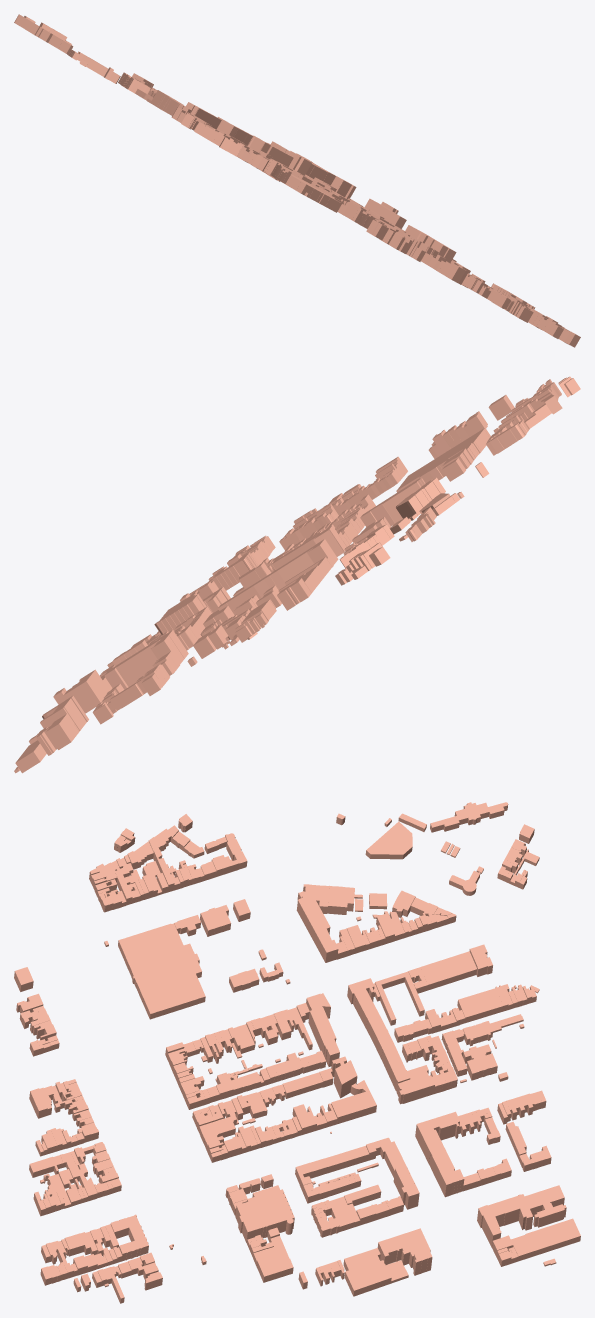
3 renders of one model, top to bottom at view 1: azimuth 30°, elevation 25°; view 2: azimuth 150°, elevation 25°; view 3: azimuth 270°, elevation 25°, orthographic. The views are drawn at different scales.
Bounding box in the file's own units: 547 × 398 × 659.
